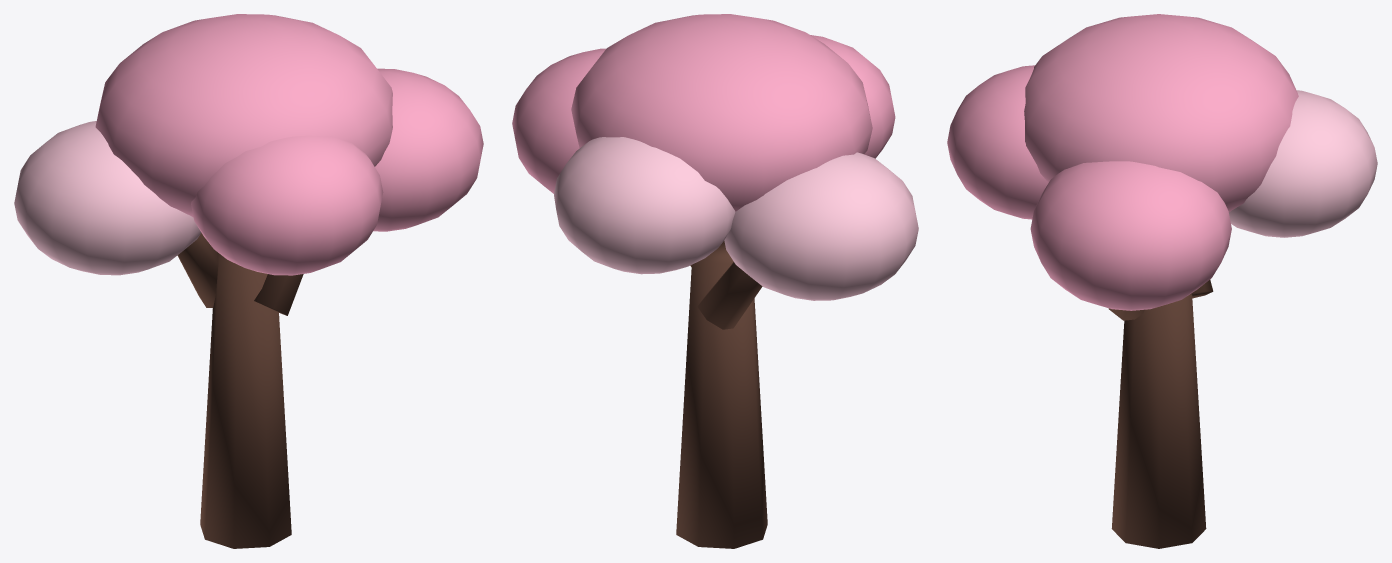
File: Nature_SakuraTree.glb
The picture shows the model from 3 angles, left to right: view 1: azimuth 30°, elevation 25°; view 2: azimuth 150°, elevation 25°; view 3: azimuth 270°, elevation 25°; orthographic projection.
Parts seen in each view (by area): view 1: Nature_SakuraTree, Nature_SakuraTree_Trunk, Nature_SakuraTree_BranchL, Nature_SakuraTree_BranchR; view 2: Nature_SakuraTree, Nature_SakuraTree_Trunk, Nature_SakuraTree_BranchL; view 3: Nature_SakuraTree, Nature_SakuraTree_Trunk.
Boxes of the visible parts, <box> form: Nature_SakuraTree: <box>14,14,483,275</box>; Nature_SakuraTree_Trunk: <box>200,252,291,548</box>; Nature_SakuraTree_BranchL: <box>177,233,218,307</box>; Nature_SakuraTree_BranchR: <box>254,274,303,315</box>; Nature_SakuraTree: <box>512,14,918,300</box>; Nature_SakuraTree_Trunk: <box>676,241,767,548</box>; Nature_SakuraTree_BranchL: <box>697,262,762,329</box>; Nature_SakuraTree: <box>947,14,1377,310</box>; Nature_SakuraTree_Trunk: <box>1111,294,1206,548</box>.
Size of the model in its own units: 3.42 by 3.93 by 3.1.
